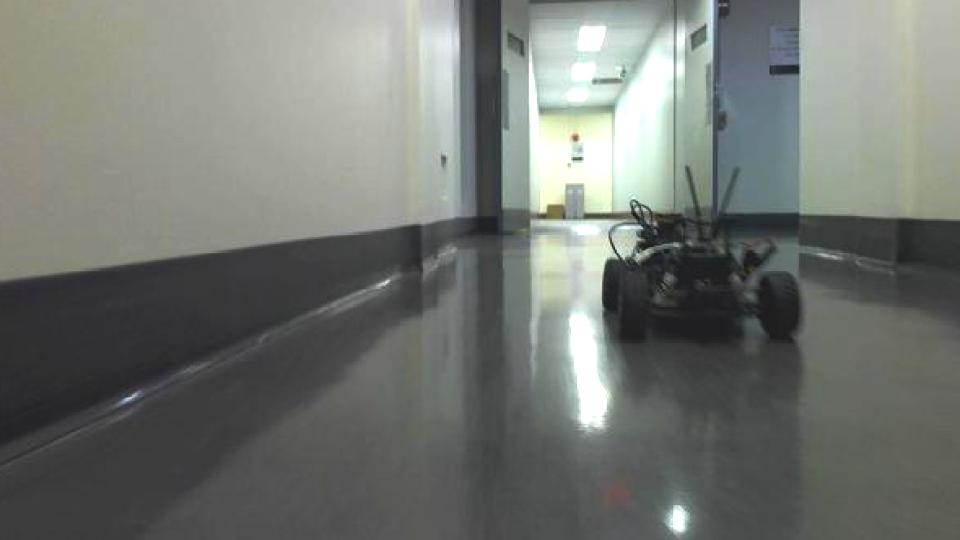car: (597, 162, 804, 345)
